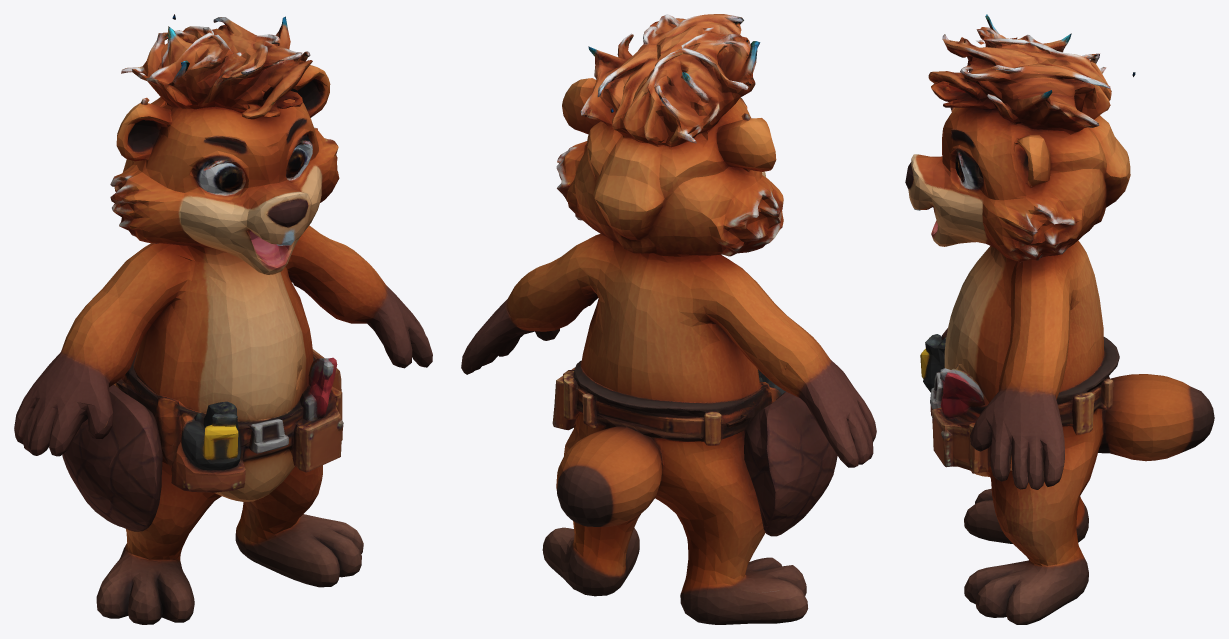
The model's file is many.glb.
3 renders of one model, left to right at view 1: azimuth 30°, elevation 25°; view 2: azimuth 150°, elevation 25°; view 3: azimuth 270°, elevation 25°, orthographic. The views are drawn at different scales.
Visible parts, largest first — view 1: world; view 2: world; view 3: world.
Part boxes in pixels (bbox=[...]): world: bbox=[14, 14, 432, 624]; world: bbox=[461, 14, 876, 624]; world: bbox=[905, 14, 1214, 624].
Bounding box in the file's own units: 0.7495 × 0.9978 × 0.5322.
Materials: 1 (1 with a texture image).
